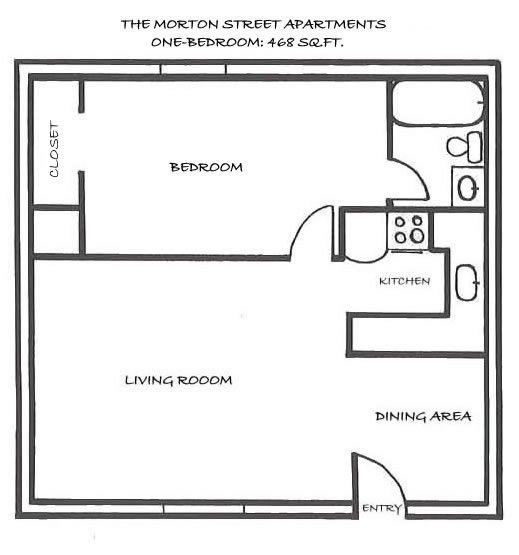door: (343, 444, 408, 503), (285, 201, 339, 261), (391, 155, 431, 204)
room: (18, 258, 350, 522), (79, 77, 341, 262), (345, 360, 499, 523), (341, 209, 479, 354), (381, 58, 502, 210)
wall: (9, 62, 37, 517), (487, 59, 504, 519), (230, 60, 500, 81), (11, 53, 158, 86), (21, 496, 158, 519), (250, 496, 357, 519), (405, 499, 506, 522), (348, 347, 482, 360), (339, 203, 487, 214), (35, 253, 293, 259), (349, 309, 451, 320), (385, 80, 395, 156), (441, 250, 452, 319), (344, 312, 355, 352)
window: (155, 57, 231, 83), (162, 499, 248, 520)
